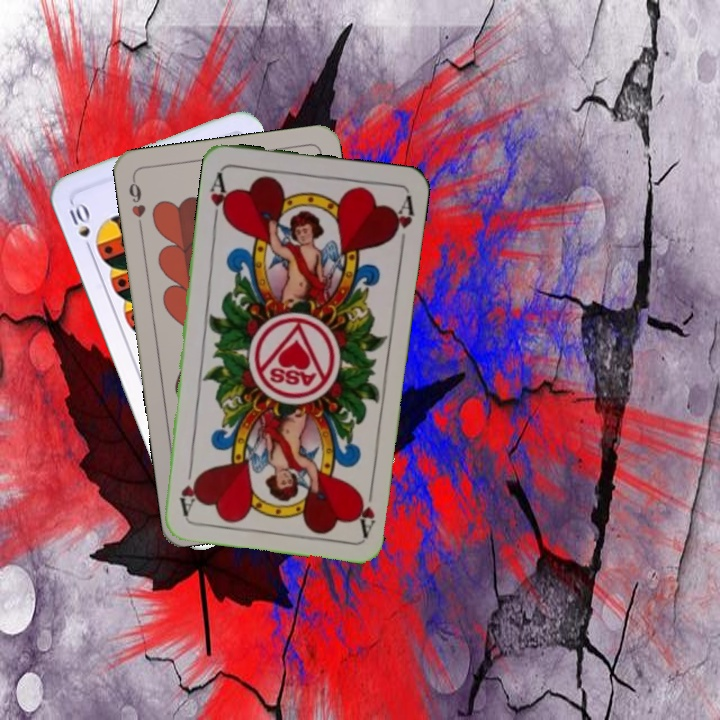H9: (125, 174, 149, 233)
HA: (351, 479, 378, 538), (206, 168, 233, 226)
S10: (65, 198, 95, 256)
